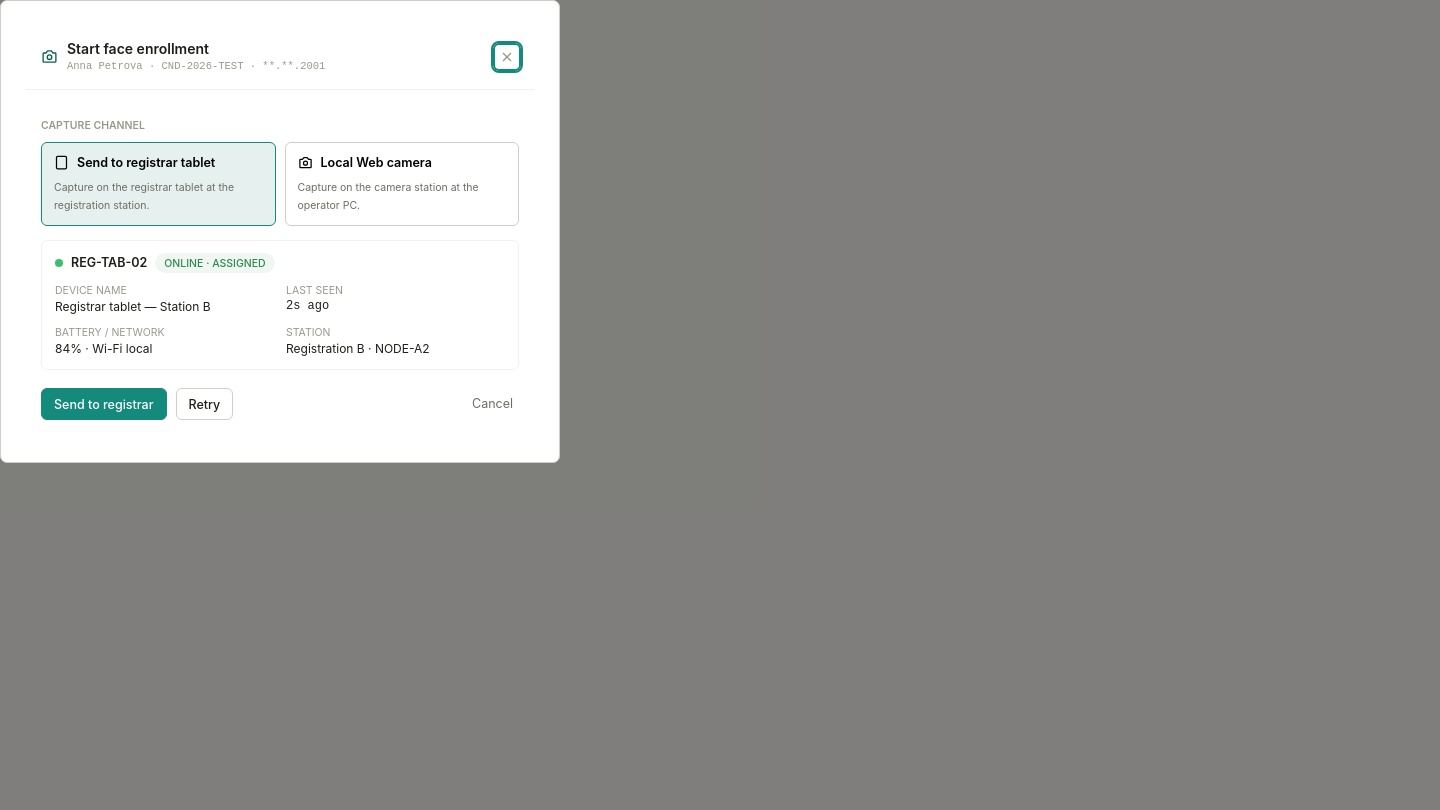
Test: StartEnrollmentDialog › clicking Send to registrar transitions to the command-queued mock state with visible status
What coordinates should you click on to do the following:
click the button "Send to registrar"
I would click on:
 (104, 404)
Its box is 41,388 -> 166,420.
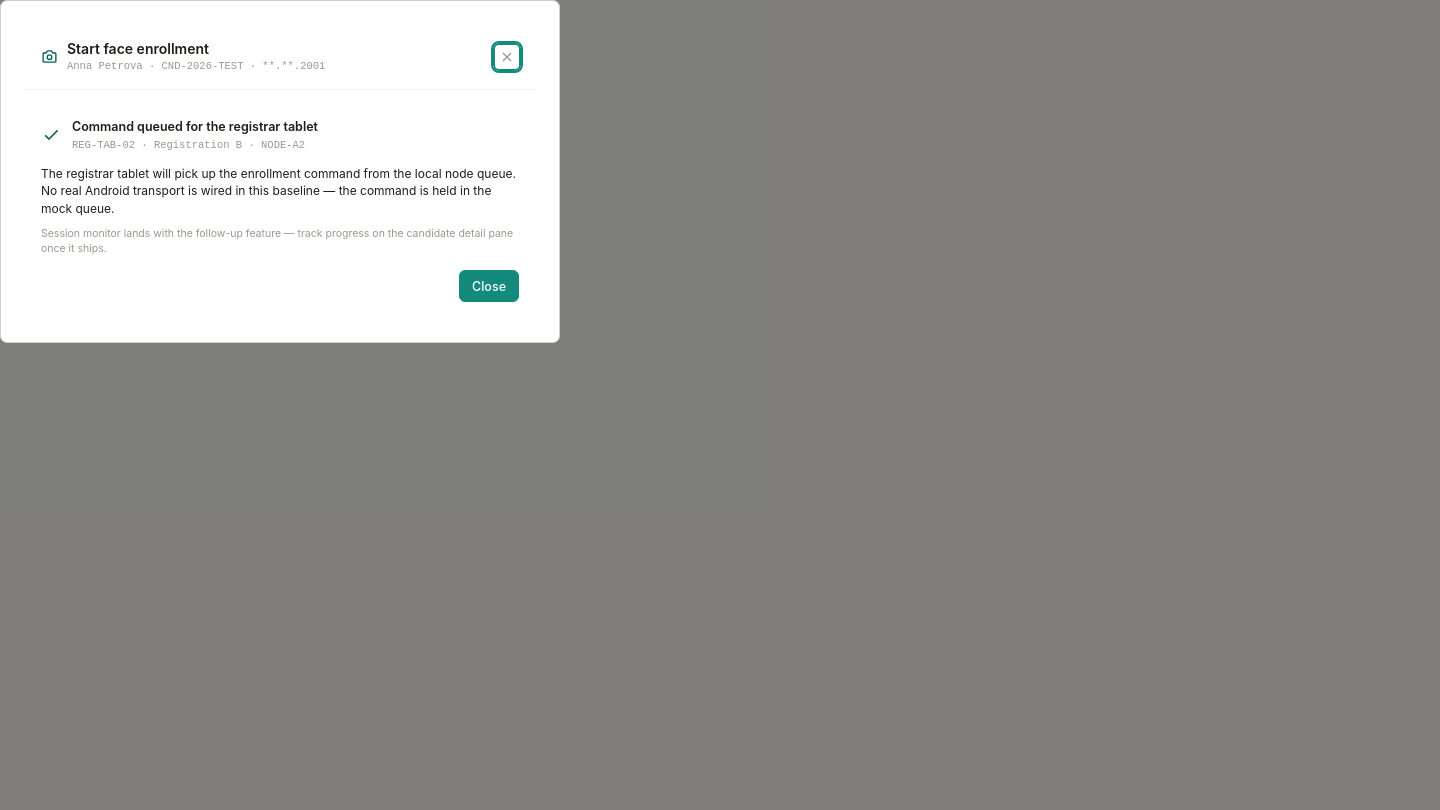
Result: the tab "Send to registrar" is gone
Result: the tab "Send to registrar tablet" is gone
Result: the text "Command queued for the registrar tablet" is shown at 72,118 -> 318,134
